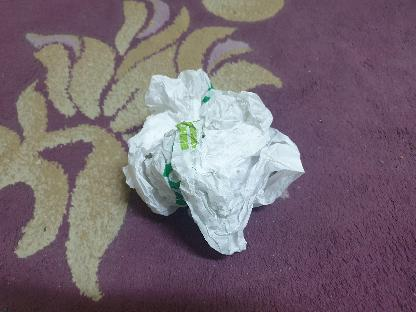Plastic Bag: (116, 65, 312, 262)
